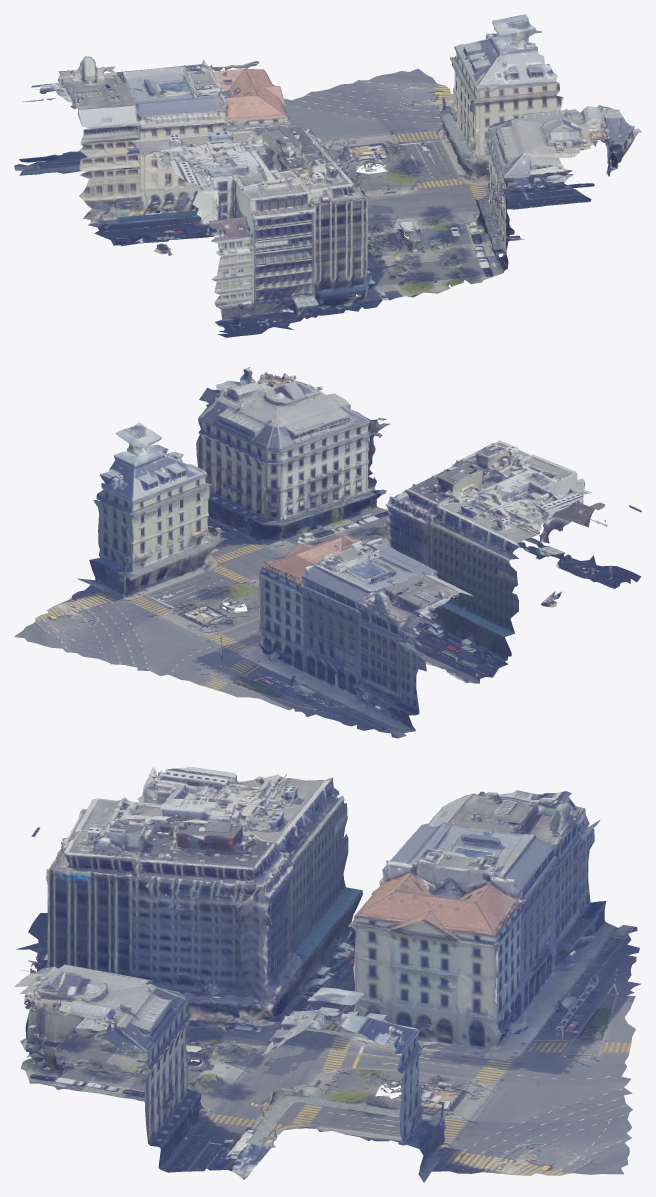
3 views of the same model, one above another, from view 1: azimuth 30°, elevation 25°; view 2: azimuth 150°, elevation 25°; view 3: azimuth 270°, elevation 25° (orthographic). The views are drawn at different scales.
Bounding box in the file's own units: 110 × 32.98 × 107.
1 material, 1 textured.
